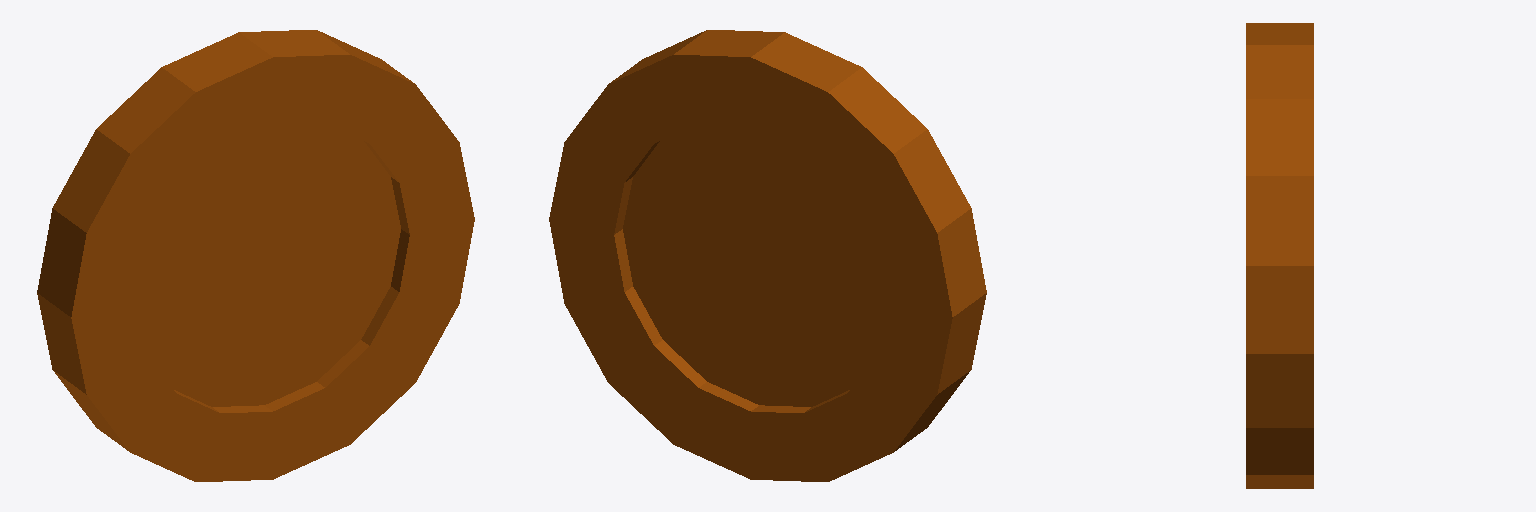
Rendered from Coin.obj.
3 renders of one model, left to right at view 1: azimuth 30°, elevation 25°; view 2: azimuth 150°, elevation 25°; view 3: azimuth 270°, elevation 25°, orthographic.
Parts seen in each view (by area): view 1: coin; view 2: coin; view 3: coin.
Part boxes in pixels (x1,y1,x2,y2): coin: (37, 30, 474, 481); coin: (549, 30, 986, 481); coin: (1246, 23, 1313, 488).
Size of the model in its own units: 0.4935 by 0.4935 by 0.0724.